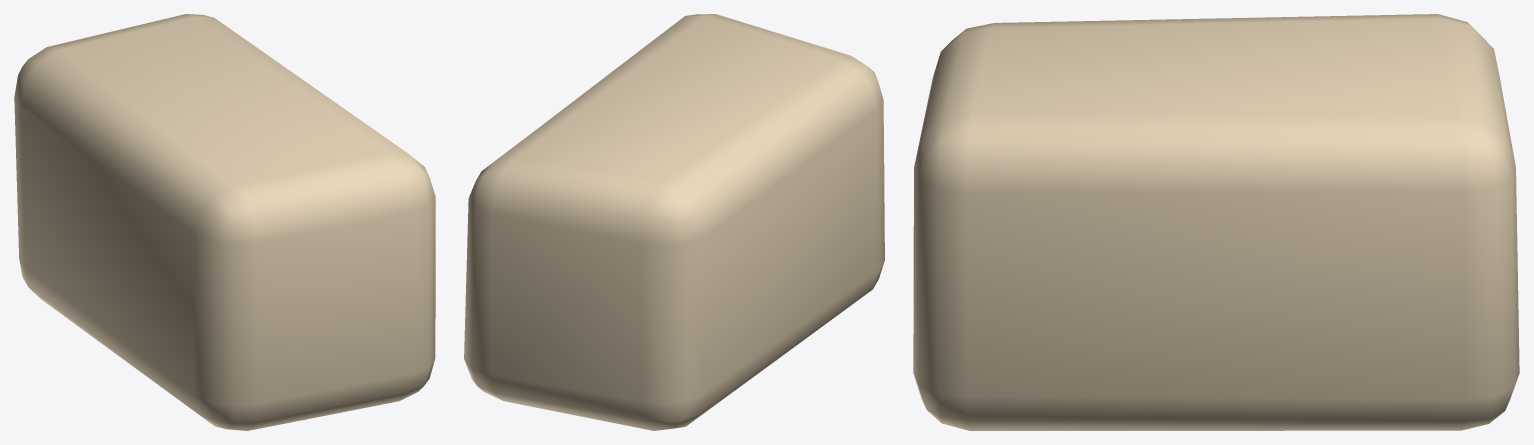
Rendered from BORD_KURVE_R12.glb.
The picture shows the model from 3 angles, left to right: view 1: azimuth 30°, elevation 25°; view 2: azimuth 150°, elevation 25°; view 3: azimuth 270°, elevation 25°; orthographic projection. The views are drawn at different scales.
Parts seen in each view (by area): view 1: BORD_KURVE_R12; view 2: BORD_KURVE_R12; view 3: BORD_KURVE_R12.
Part boxes in pixels (x1,y1,x2,y2): BORD_KURVE_R12: [14, 14, 435, 430]; BORD_KURVE_R12: [464, 14, 884, 430]; BORD_KURVE_R12: [913, 14, 1519, 430].
Size of the model in its own units: 0.459 by 0.4801 by 0.8301.
